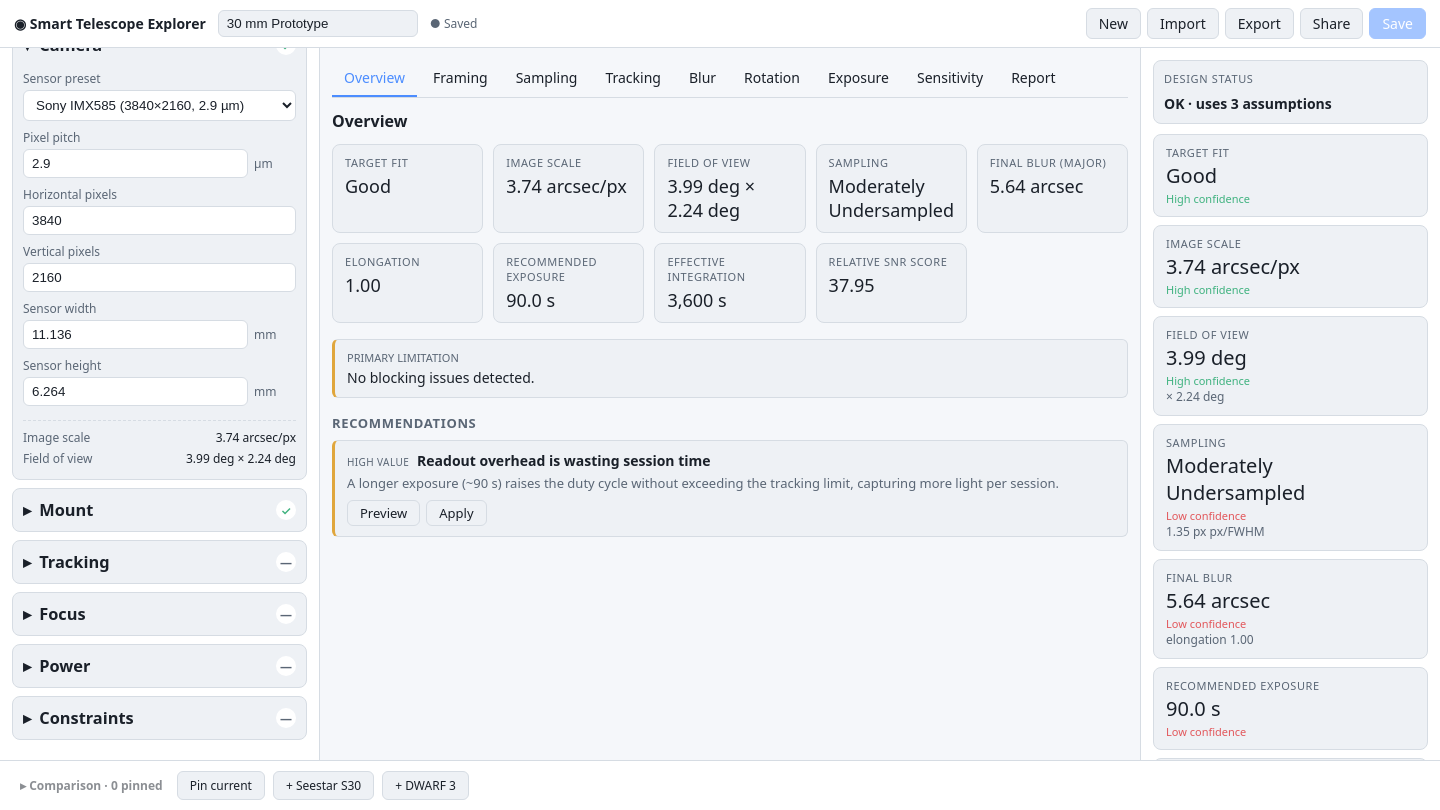
Test case: R2 gate: tracking, blur, exposure, apply recommendation (v0.9 §28, R2-038) › reflects tracking error in the tracking view
(page scrolled)
Open the (collapsed) Tracking input section, then enter a periodic error.
Click the button "▸ Tracking —".
click(74, 562)  # box top-left (13, 541), bottom-right (306, 583)
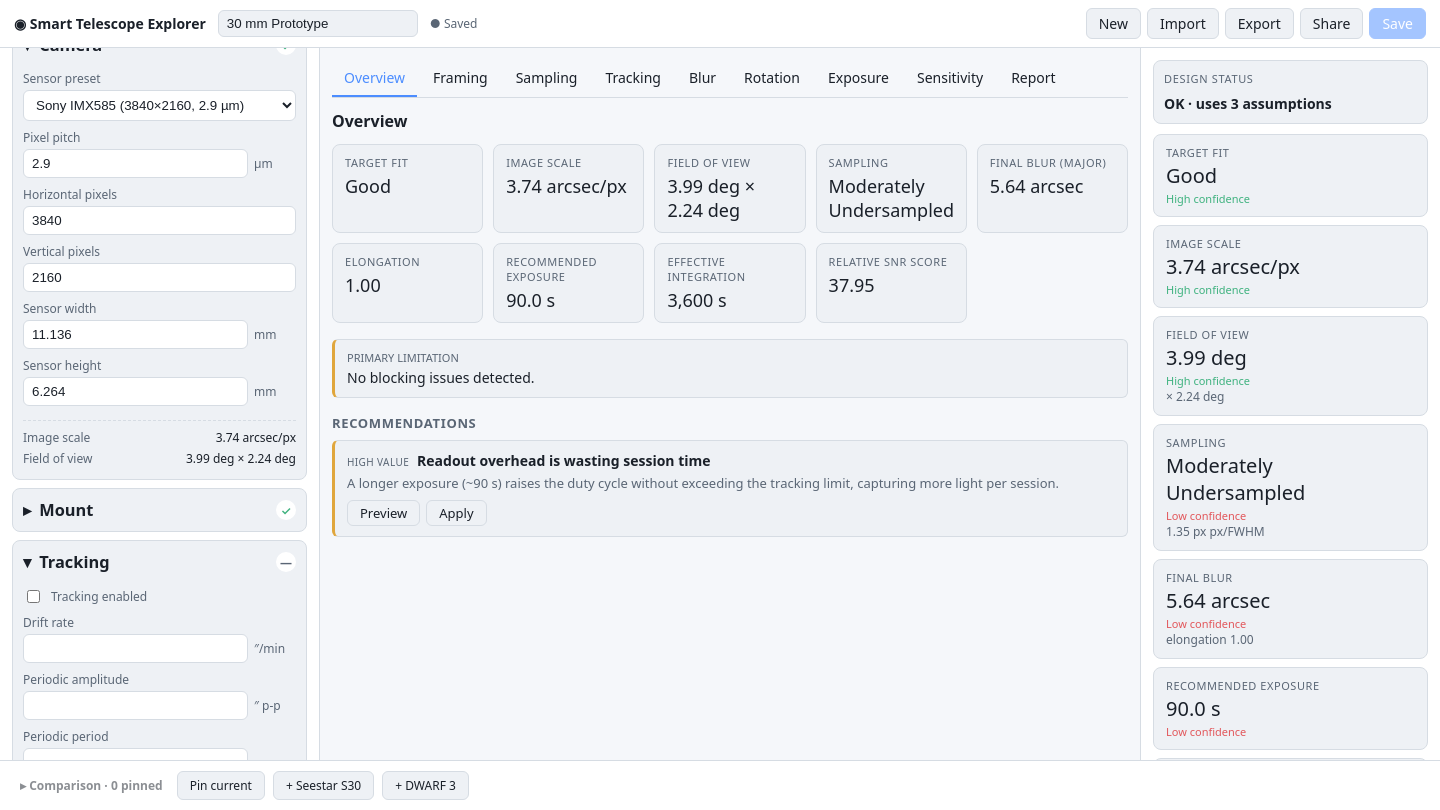
Type "20" into the number field labelled "Periodic amplitude ″ p-p".
click(136, 706); type("20")  # box top-left (23, 691), bottom-right (248, 720)
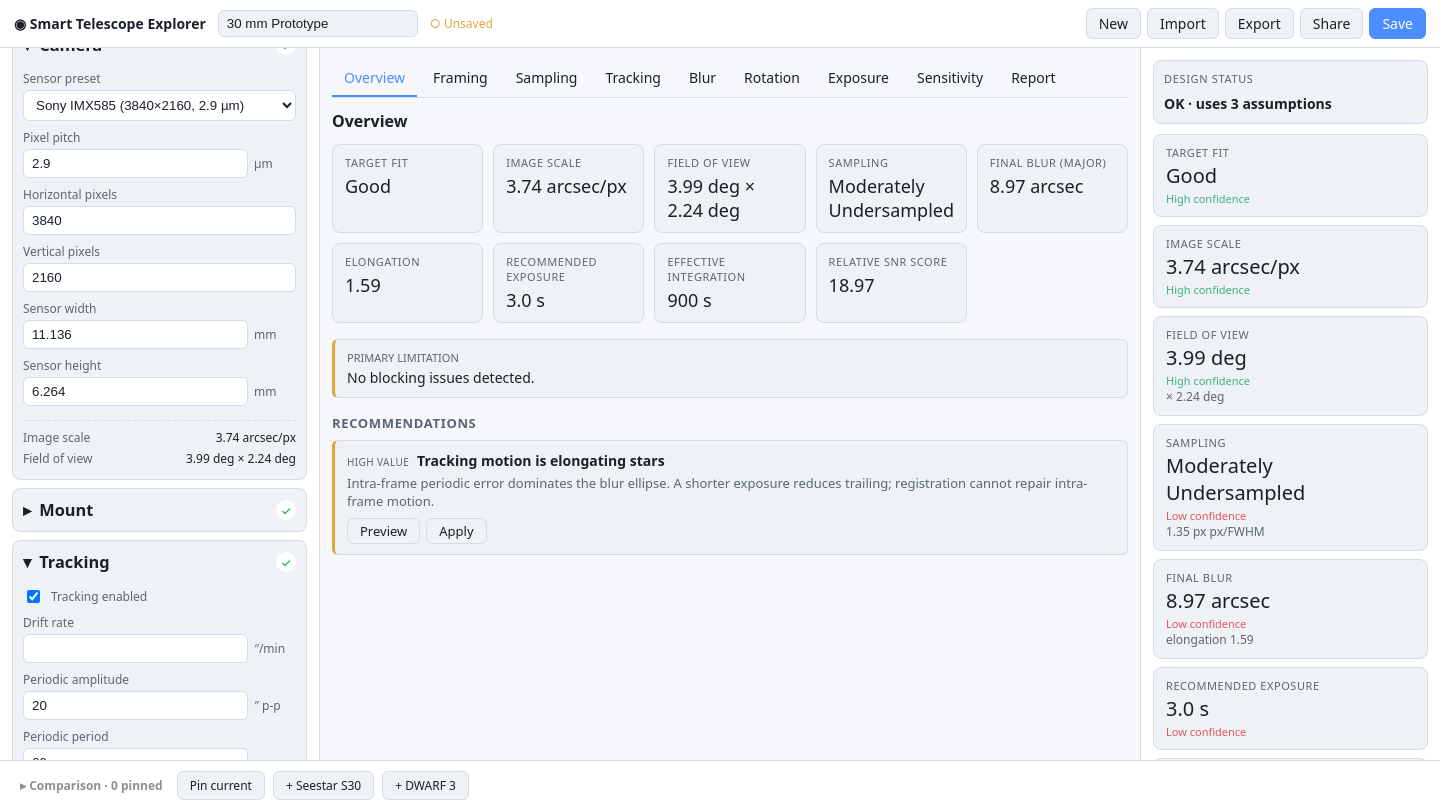
Click the tab "Tracking".
click(633, 78)  # box top-left (593, 60), bottom-right (673, 97)
(page scrolled)
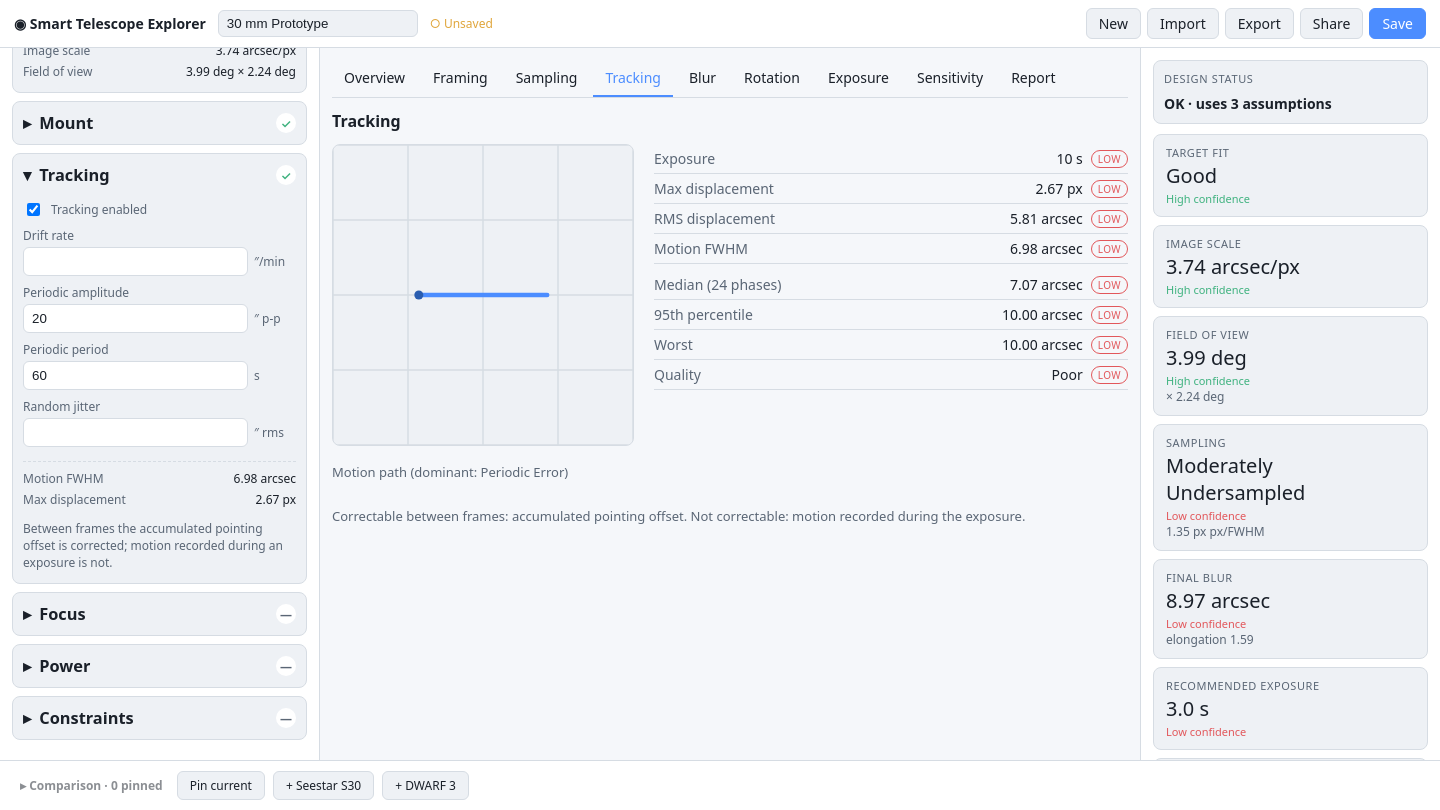
Result: the text "Max displacement" below "″ rms" is shown at top-left (23, 491), bottom-right (126, 508)
